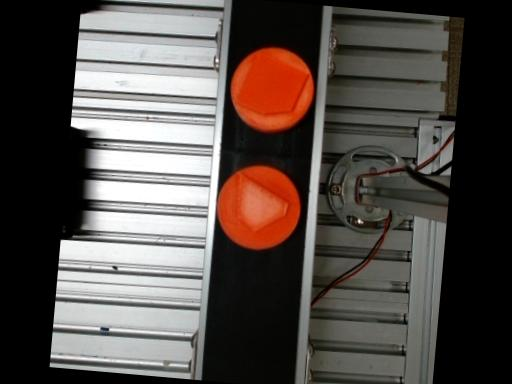Not_Square: (234, 52, 307, 114), (234, 172, 286, 232)
Orange_Waper: (229, 47, 312, 133), (217, 165, 298, 248)
